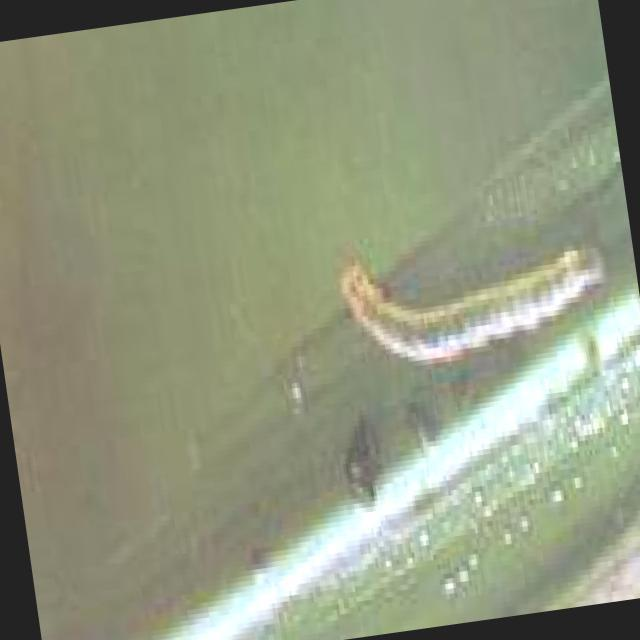leaf folder: (341, 250, 603, 362)
